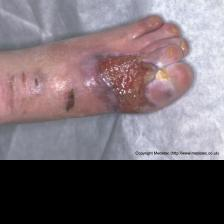Wound: (86, 51, 171, 113), (61, 85, 83, 116), (30, 72, 47, 88)
